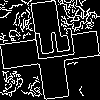E: (25, 25, 75, 65)
